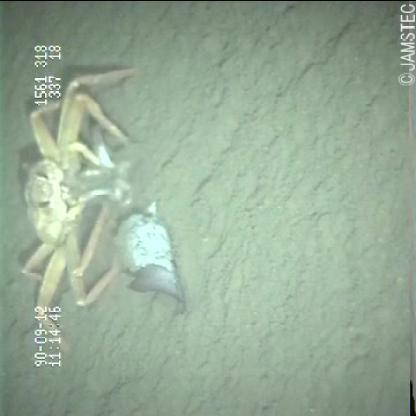Bio: (15, 64, 191, 360)
